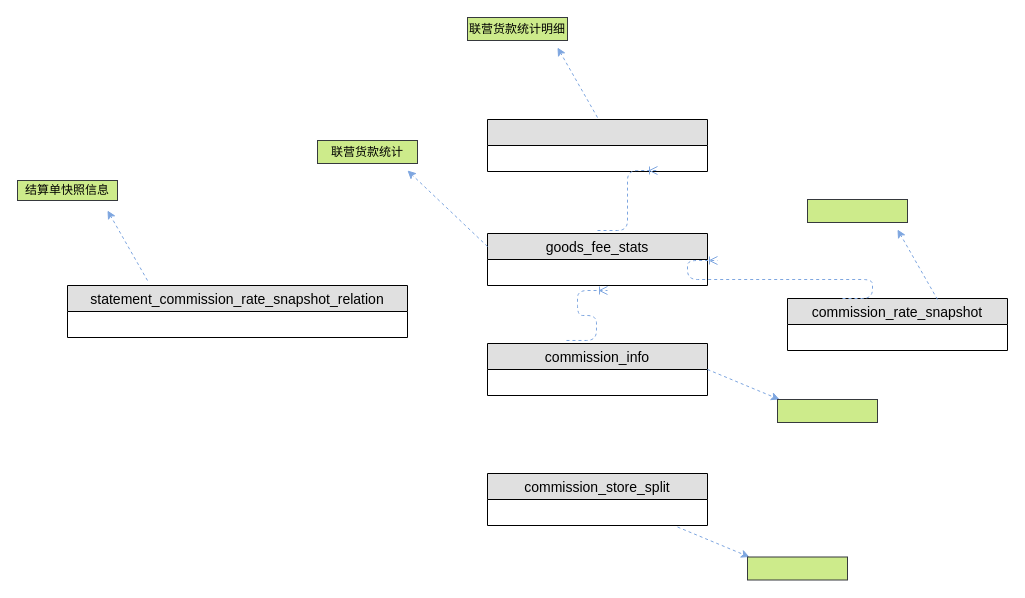
Image size: 1025x598. Some labels were removed from this diagram. The shapes that lost their labels are listed below. From the top down, each one's centre as x and y in pixels, then its label:
the point at 597,145: goods_fee_detail
the point at 857,210: 扣点快照ID
the point at 827,410: 佣金信息表
the point at 797,568: 佣金拆分表
